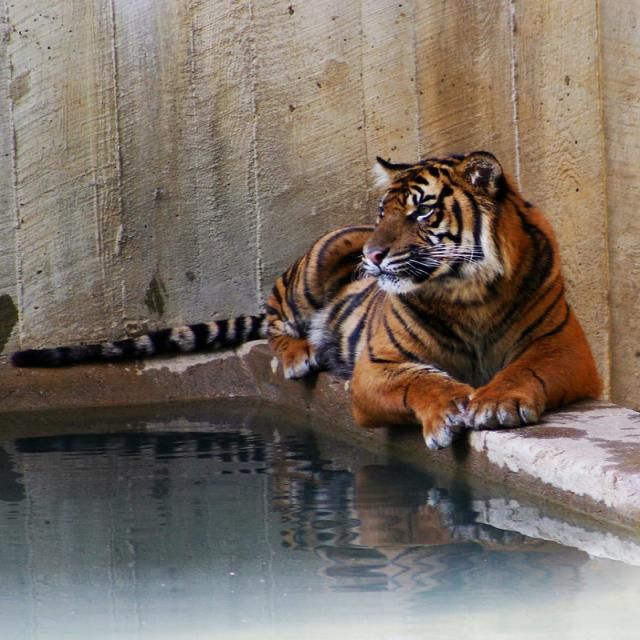Tiger: (9, 146, 605, 452)
